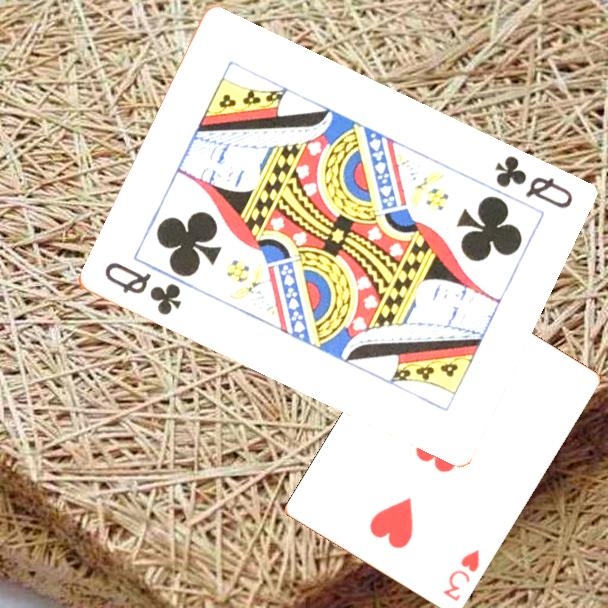c12: (490, 152, 575, 212), (100, 259, 184, 319)
h03: (440, 546, 482, 605)
